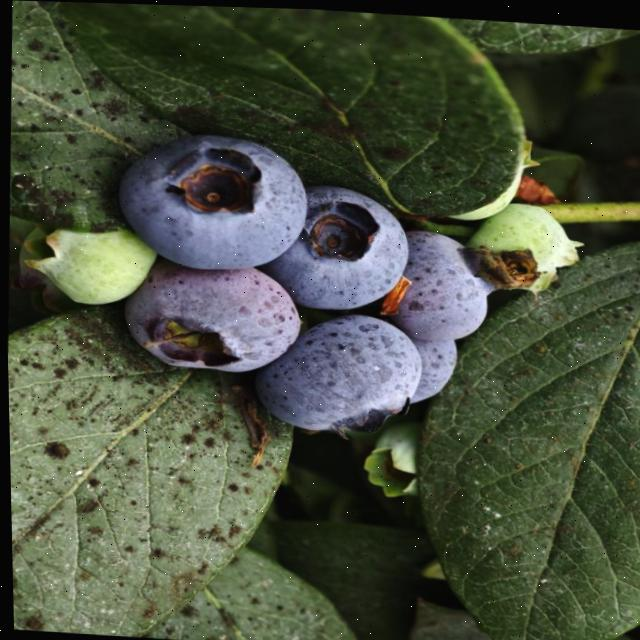RipeBlueBerry: (116, 130, 309, 272), (254, 309, 418, 436), (130, 263, 292, 375), (273, 184, 411, 310)
